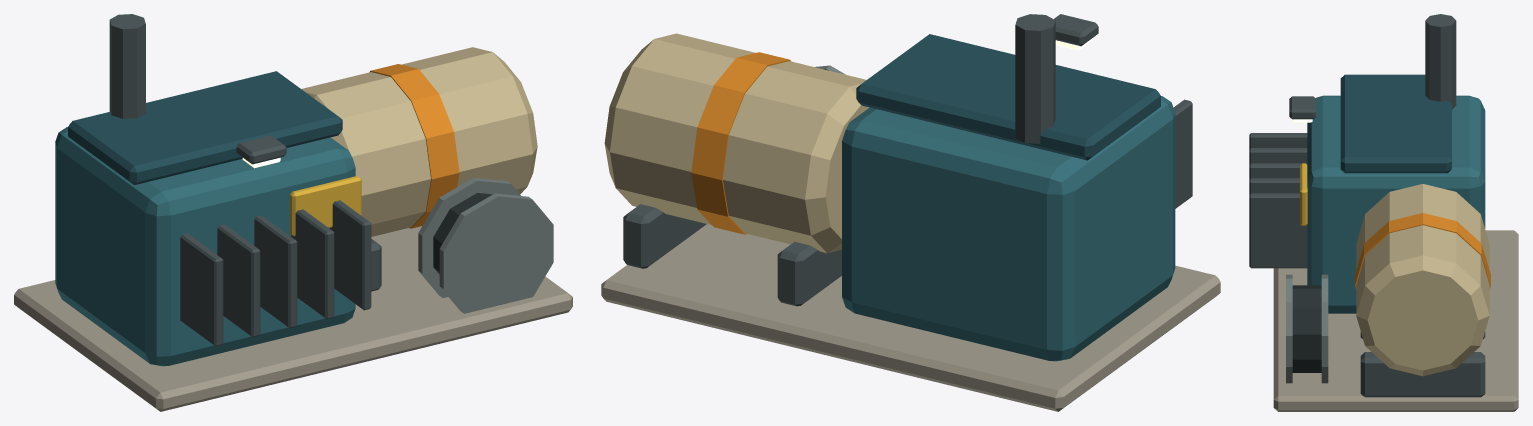
Rendered from wb_power_unit.glb.
The picture shows the model from 3 angles, left to right: view 1: azimuth 30°, elevation 25°; view 2: azimuth 150°, elevation 25°; view 3: azimuth 270°, elevation 25°; orthographic projection. The views are drawn at different scales.
Parts seen in each view (by area): view 1: wb_power_unit; view 2: wb_power_unit; view 3: wb_power_unit.
Boxes of the visible parts, box(x1,y1,x2,y2) form: wb_power_unit: box(14, 14, 572, 411); wb_power_unit: box(601, 14, 1220, 411); wb_power_unit: box(1249, 14, 1518, 411).
Bounding box in the file's own units: 1.88 × 1.25 × 1.21.
